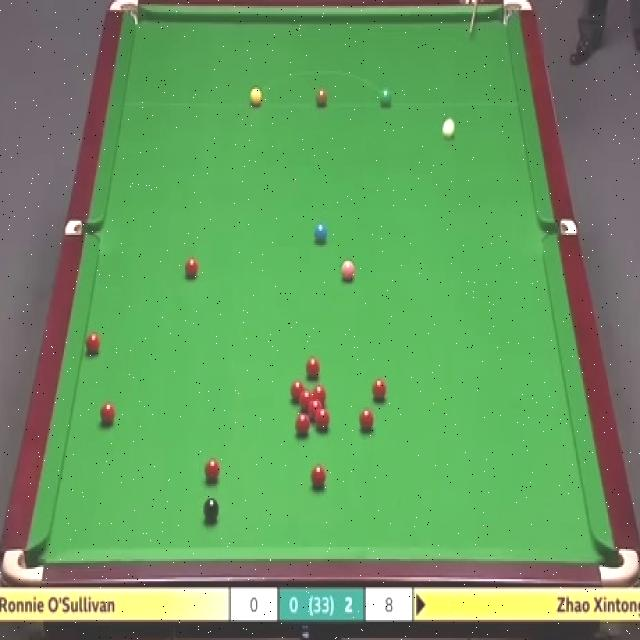black-ball: (204, 496, 222, 520)
blue-ball: (314, 221, 327, 246)
brown-ball: (315, 87, 328, 106)
green-ball: (380, 88, 392, 106)
pink-ball: (341, 261, 356, 283)
red-ball: (310, 463, 328, 490), (84, 331, 102, 358), (289, 377, 307, 403), (97, 399, 115, 425), (370, 378, 388, 401), (304, 356, 322, 379), (358, 408, 375, 432), (205, 457, 221, 482), (312, 385, 328, 409), (314, 410, 331, 432), (295, 412, 310, 436), (299, 391, 315, 412), (184, 259, 199, 277), (308, 401, 322, 418)
white-ball: (441, 116, 456, 140)
yellow-ball: (249, 87, 262, 106)
